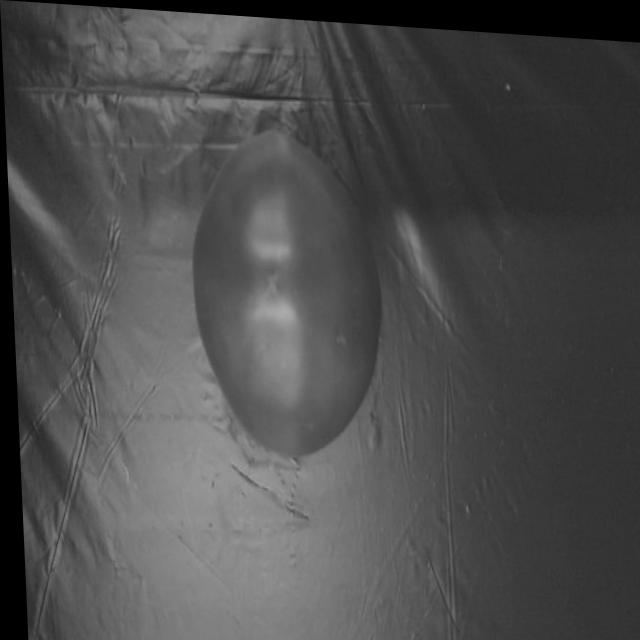kirmizi: (181, 122, 381, 459)
